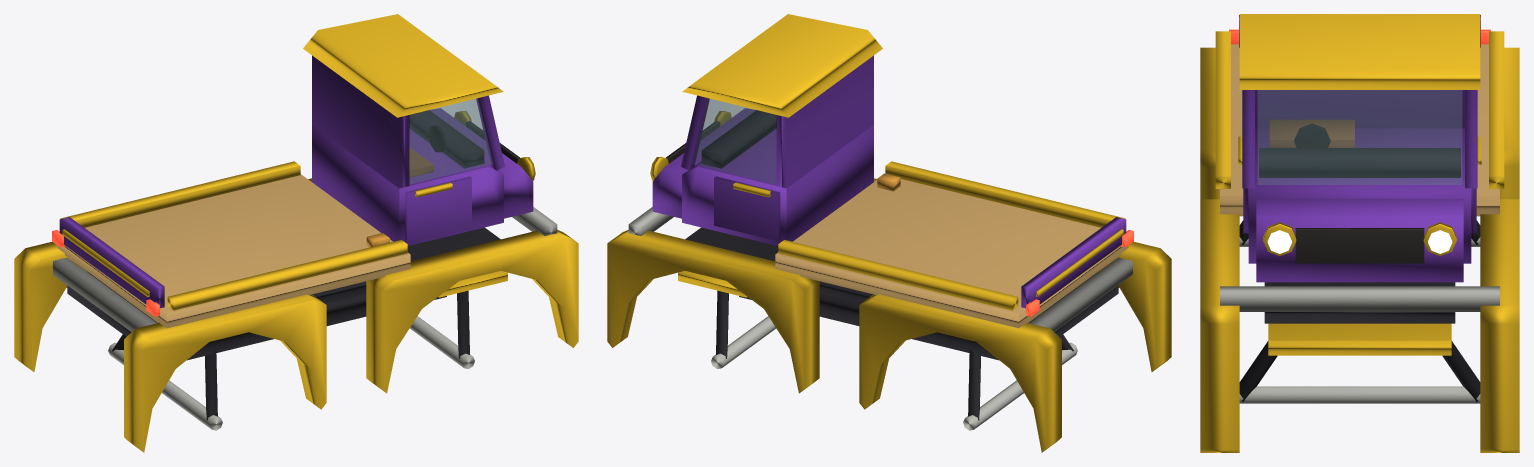
Rendered from truck_monster_lod1.glb.
The picture shows the model from 3 angles, left to right: view 1: azimuth 30°, elevation 25°; view 2: azimuth 150°, elevation 25°; view 3: azimuth 270°, elevation 25°; orthographic projection. The views are drawn at different scales.
Visible parts, largest first — view 1: Ladder frame, Windscreen, Stamped half-door.001, Tailgate, Axle shaft, Axle shaft.001; view 2: Ladder frame, Windscreen, Tailgate, Axle shaft, Axle shaft.001; view 3: Ladder frame, Windscreen, Axle shaft.001, Headlamp lens, Stamped half-door.001, Axle shaft.
Boxes of the visible parts, x1=… form: Ladder frame: x1=14, y1=14, x2=578, y2=452; Windscreen: x1=410, y1=98, x2=492, y2=183; Stamped half-door.001: x1=405, y1=176, x2=471, y2=241; Tailgate: x1=59, y1=217, x2=164, y2=308; Axle shaft: x1=108, y1=334, x2=222, y2=430; Axle shaft.001: x1=409, y1=290, x2=474, y2=368; Ladder frame: x1=607, y1=14, x2=1171, y2=452; Windscreen: x1=693, y1=98, x2=775, y2=183; Tailgate: x1=1021, y1=217, x2=1126, y2=308; Axle shaft: x1=963, y1=334, x2=1077, y2=430; Axle shaft.001: x1=711, y1=290, x2=776, y2=368; Ladder frame: x1=1200, y1=14, x2=1519, y2=452; Windscreen: x1=1258, y1=90, x2=1461, y2=184; Axle shaft.001: x1=1239, y1=341, x2=1480, y2=403; Headlamp lens: x1=1267, y1=230, x2=1452, y2=253; Stamped half-door.001: x1=1238, y1=136, x2=1248, y2=233; Axle shaft: x1=1239, y1=220, x2=1480, y2=246.
Size of the model in its own units: 4.62 by 2.81 by 2.28.
